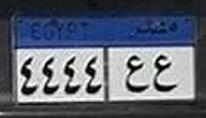4: (18, 55, 40, 99), (39, 56, 62, 96), (61, 56, 82, 96), (82, 55, 102, 95)
ain: (152, 52, 181, 94), (122, 53, 151, 93)
